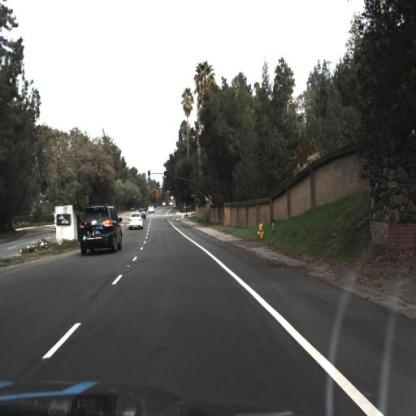car: (80, 203, 122, 254), (128, 208, 144, 231), (137, 206, 147, 222), (148, 204, 155, 214)
trafficLight-Green: (161, 168, 170, 182), (145, 168, 152, 184), (163, 168, 168, 186), (146, 168, 152, 181)
trafficLight-Red: (130, 191, 135, 203)
